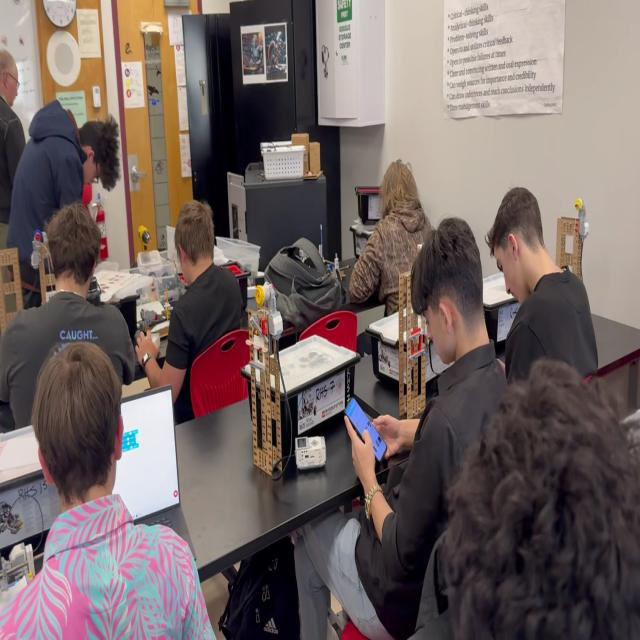pen: (344, 396, 388, 466)
